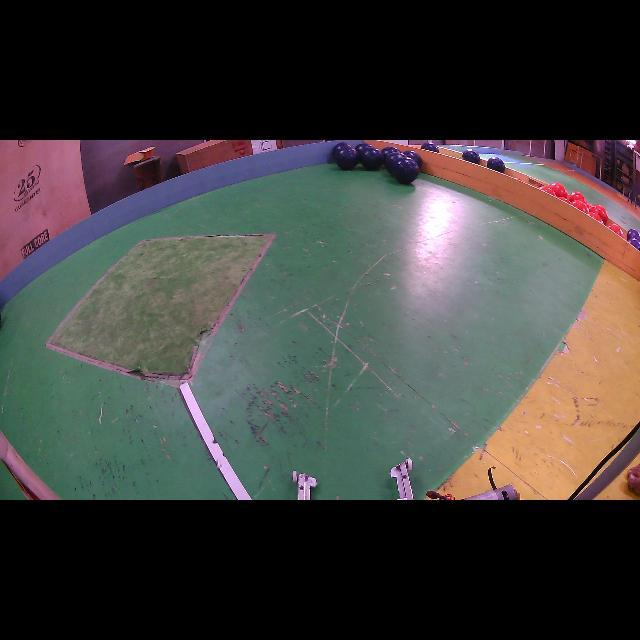B: (391, 158, 419, 184), (360, 148, 384, 170), (335, 148, 359, 170), (384, 151, 406, 172), (404, 150, 422, 168), (331, 142, 351, 157), (462, 149, 480, 164), (488, 158, 505, 172), (381, 146, 400, 158), (355, 142, 371, 154), (421, 142, 439, 152)
P: (626, 229, 640, 241), (629, 239, 640, 251)
R: (550, 182, 568, 198), (594, 204, 608, 224), (608, 222, 624, 237), (572, 200, 589, 214), (568, 191, 585, 202), (540, 186, 556, 196), (589, 212, 602, 222), (558, 196, 571, 204)
